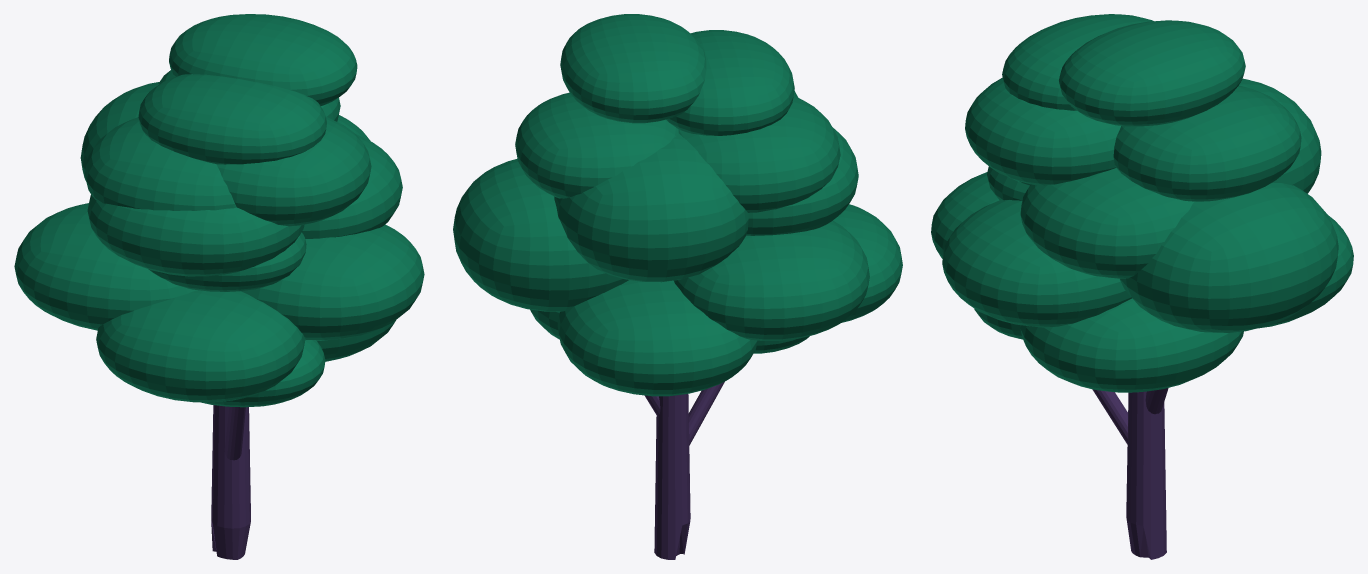
Rendered from Tree1.fbx.
3 renders of one model, left to right at view 1: azimuth 30°, elevation 25°; view 2: azimuth 150°, elevation 25°; view 3: azimuth 270°, elevation 25°, orthographic. The views are drawn at different scales.
Parts seen in each view (by area): view 1: Tree1.009; view 2: Tree1.009; view 3: Tree1.009.
Part boxes in pixels (left/top/right/bottom): Tree1.009: left=14, top=14, right=424, bottom=559; Tree1.009: left=453, top=14, right=902, bottom=559; Tree1.009: left=931, top=14, right=1353, bottom=559.
Bounding box in the file's own units: 13.39 × 17.91 × 12.89.
